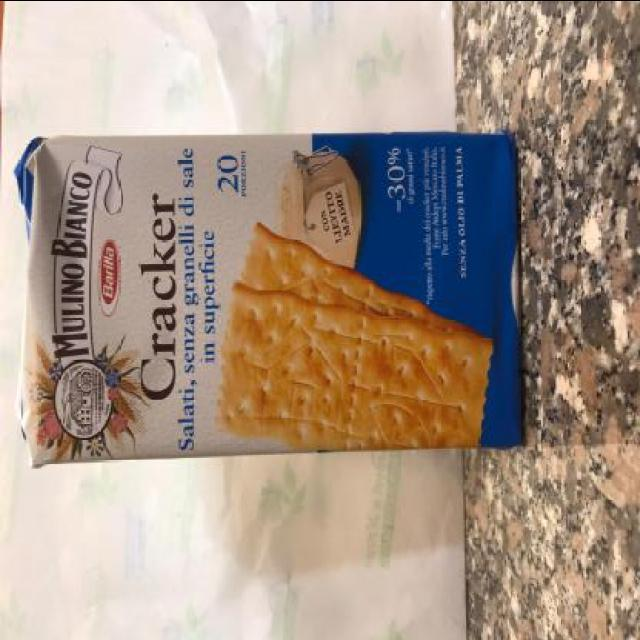Cracker: (2, 101, 536, 482)
